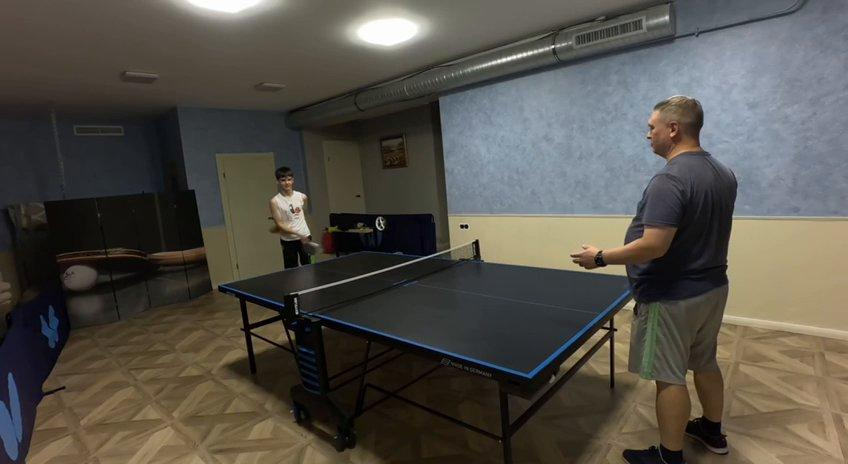Net: (282, 240, 481, 325)
Player1: (269, 167, 317, 267)
Player2: (602, 96, 737, 463)
Table: (221, 251, 628, 376)
